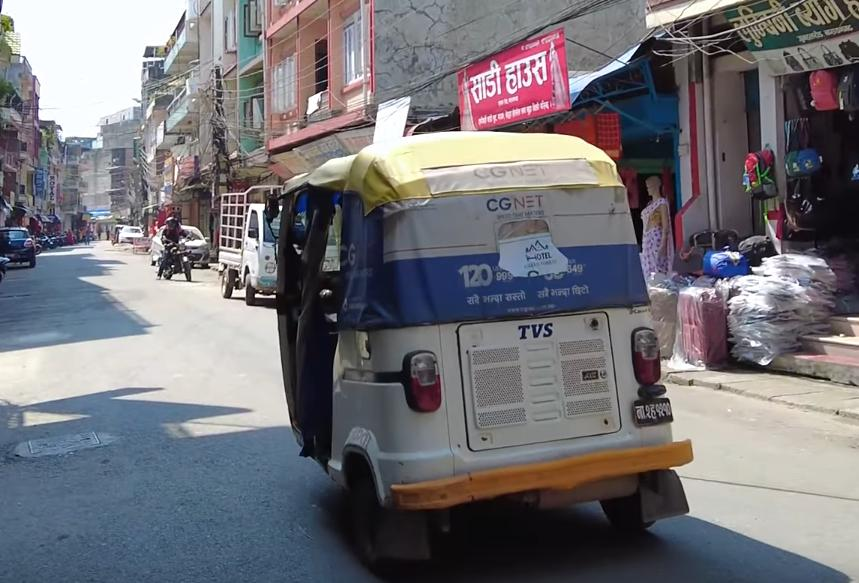auto_rickshaw: (253, 119, 700, 570)
